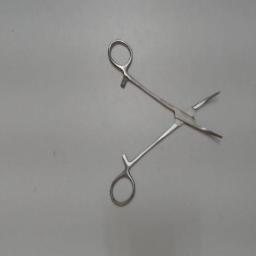Crile Artery Forceps: (104, 37, 228, 209)
